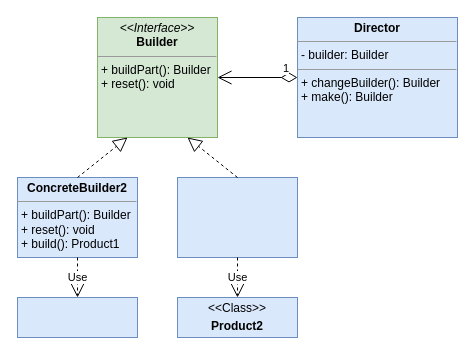
The diagram is 475 pixels wide and 355 high, and some of its shapes have lost their labels. Each missing label, with the centre of its shape:
<<Class>> Product1: the point at 77,317
ConcreteBuilder1 + buildPart(): Builder + reset(): void + build(): Product2: the point at 237,217
